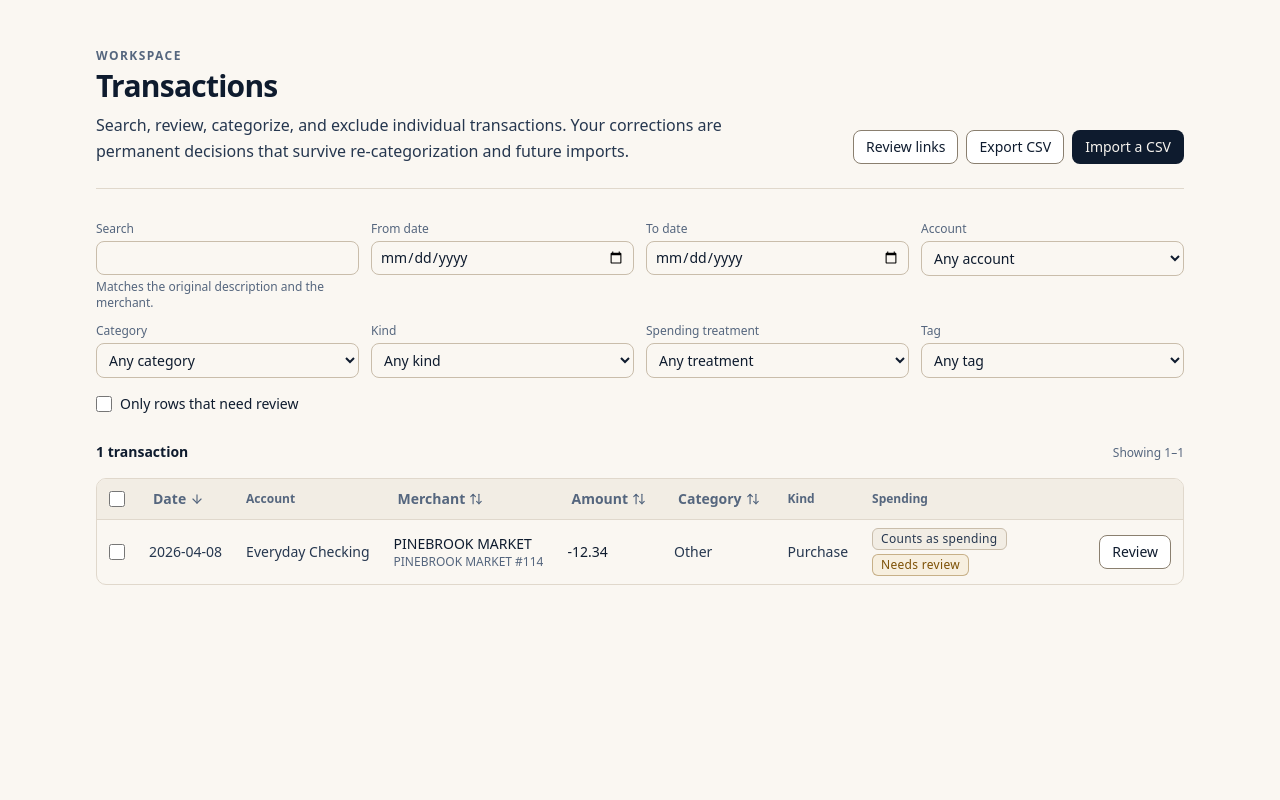
Test case: editing a transaction › closes on Escape without saving
The width and height of the screenshot is (1280, 800).
expect the heading "1 transaction" is shown: met, box 96,442 -> 188,462
Click the button "Review" at x=1135, y=552, box 1099,535 -> 1171,569
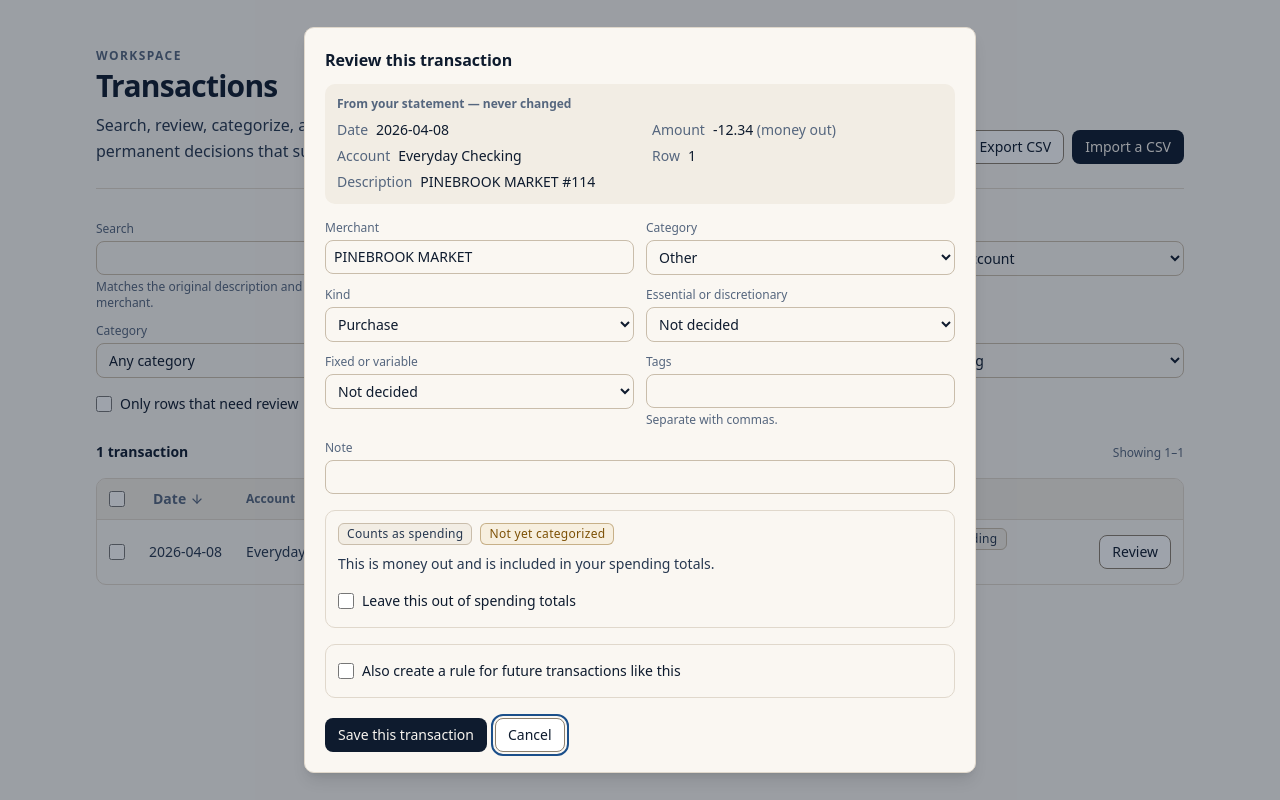
Select "Travel" in the dropdown labelled "Category" at x=800, y=257, box 646,240 -> 955,275
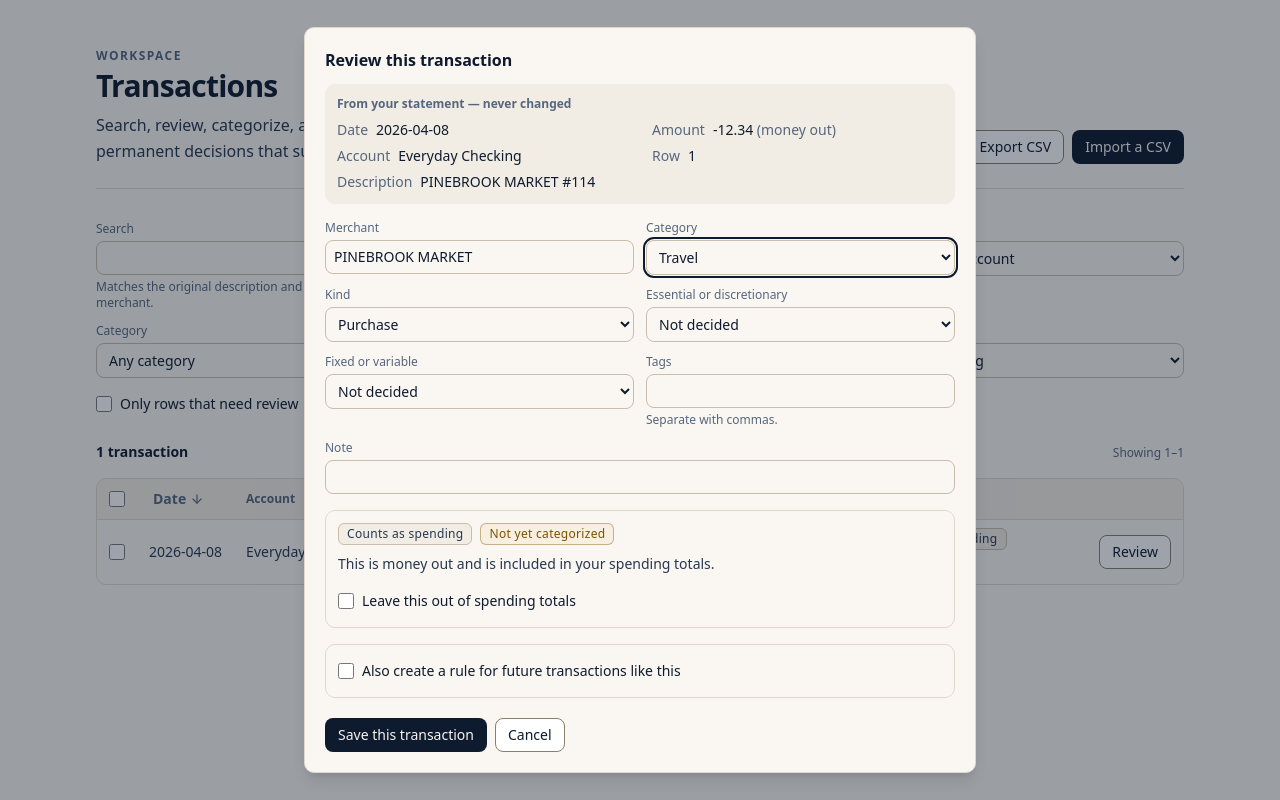
Press Escape
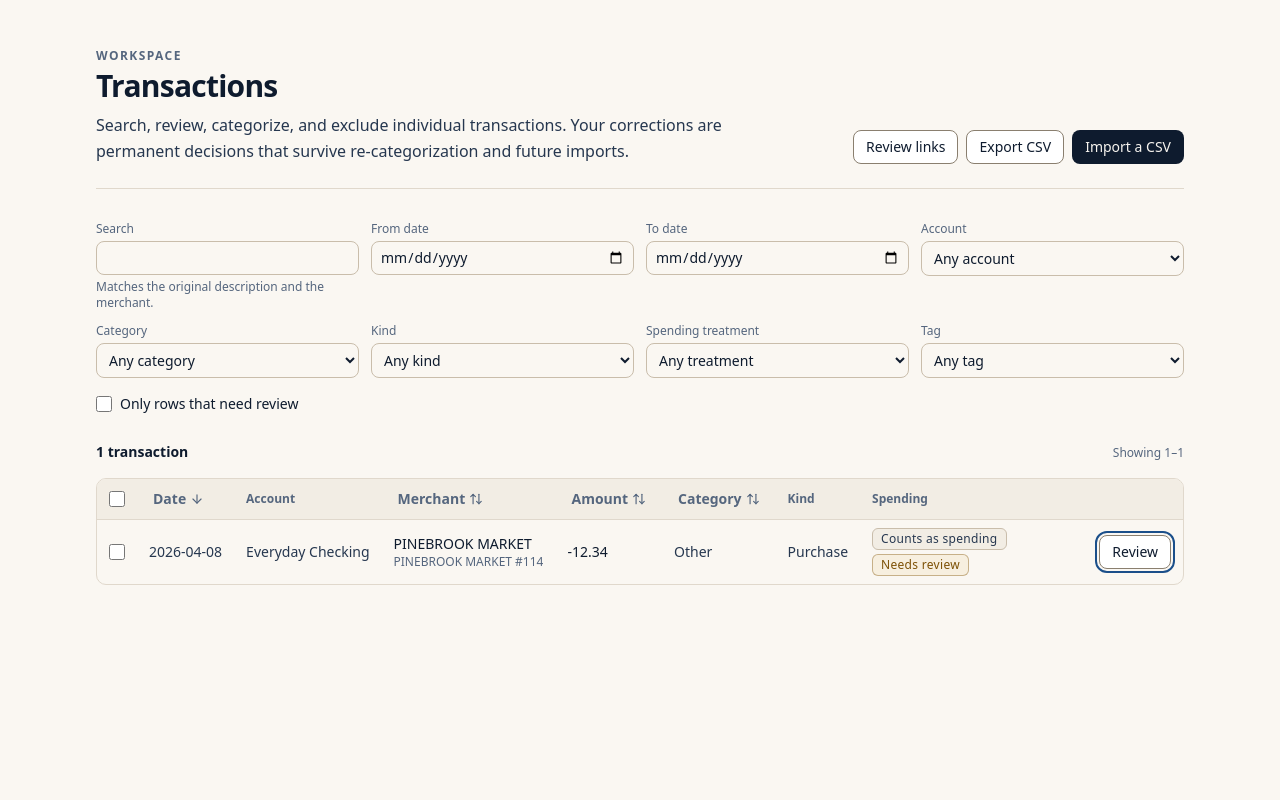
expect the dialog is gone: met
